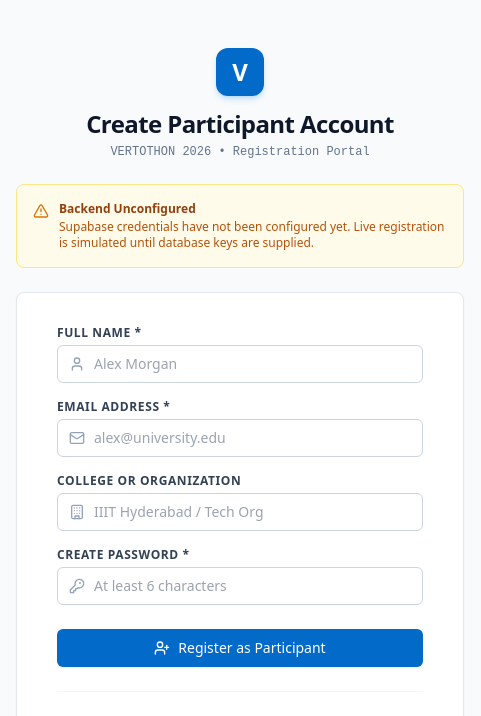
Test: Authentication Pages & Form Validation › RegisterPage › validates password length and required inputs
Click the button "Register as Participant": coordinates (240, 648) [57,629,423,667]
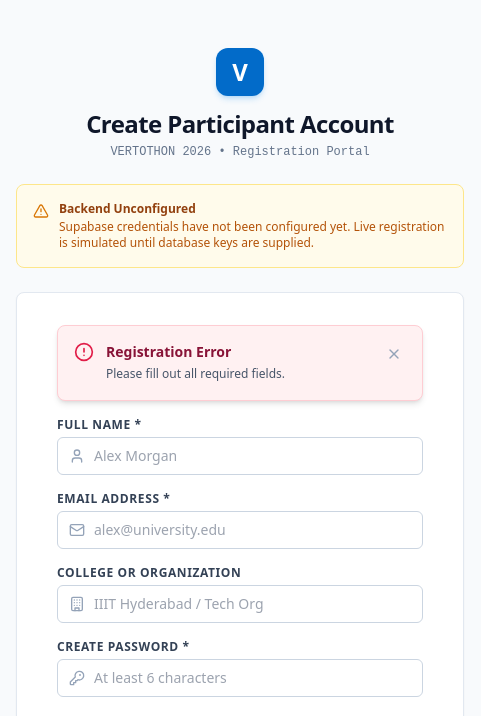
Expected: the text "Please fill out all required fields." is shown, [106,365,285,382]
In the field labelled "Full Name *": coordinates (240, 456) [57,436,423,474], type "Taylor Swift"
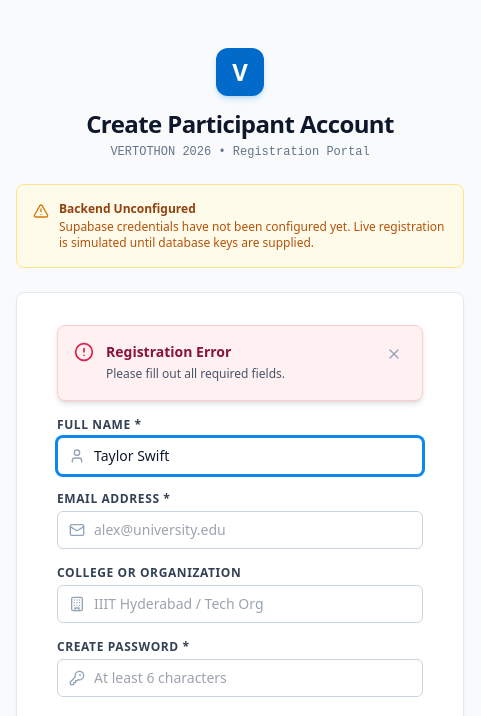
In the field labelled "Email Address *": coordinates (240, 530) [57,510,423,548], type "taylor@example.com"
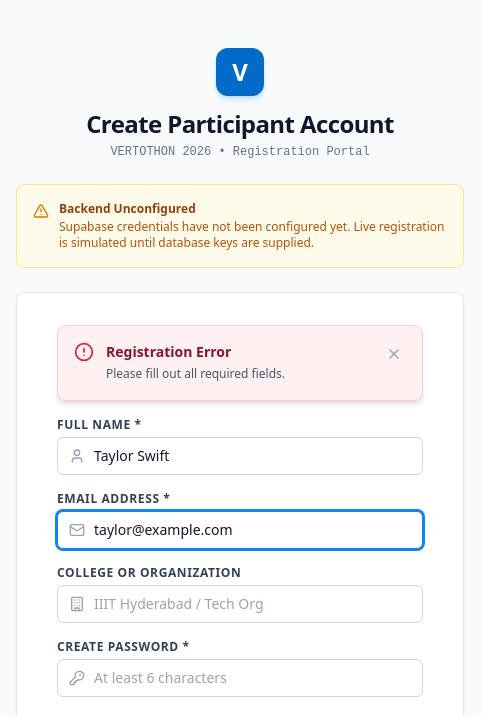
In the password field labelled "Create Password *": coordinates (240, 678) [57,658,423,696], type "123"
(page scrolled)
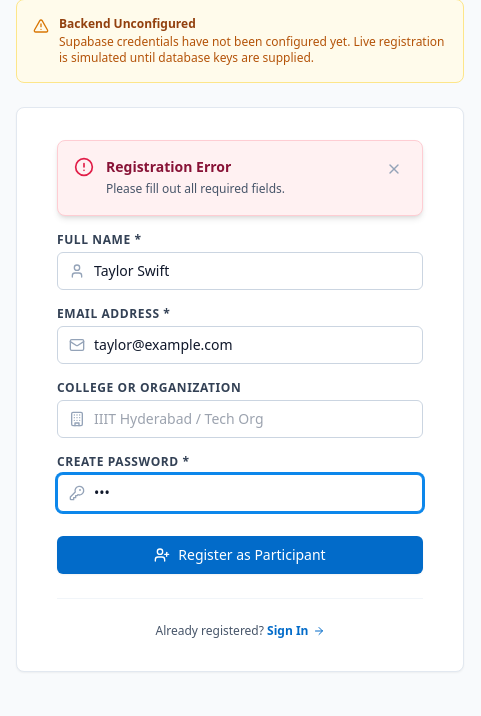
Click the button "Register as Participant": coordinates (240, 554) [57,536,423,574]
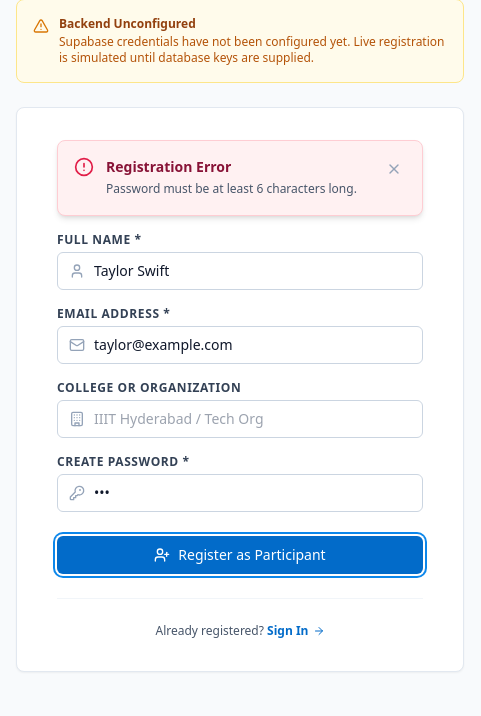
Expected: the text "Password must be at least 6 characters long." is shown, [106,179,370,198]
